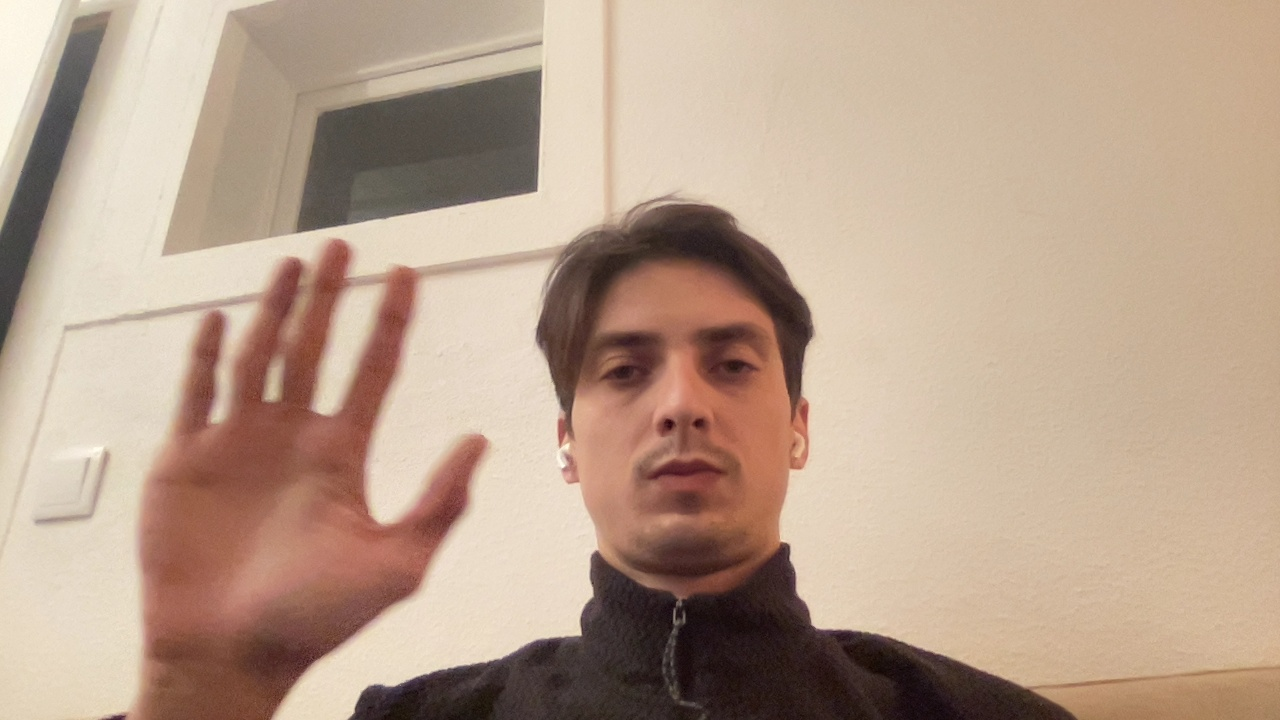Hello: (86, 191, 503, 680)
